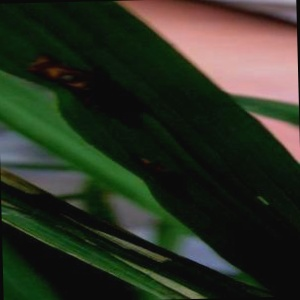Brown_Spot: (33, 55, 143, 135), (129, 142, 194, 209)
